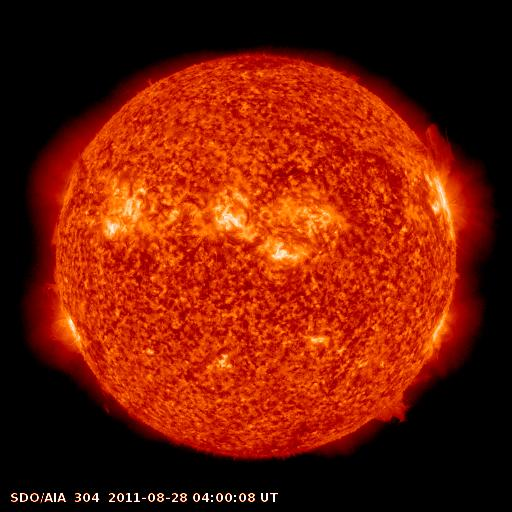prominence: (420, 112, 455, 186), (370, 388, 421, 429), (30, 273, 60, 298)
